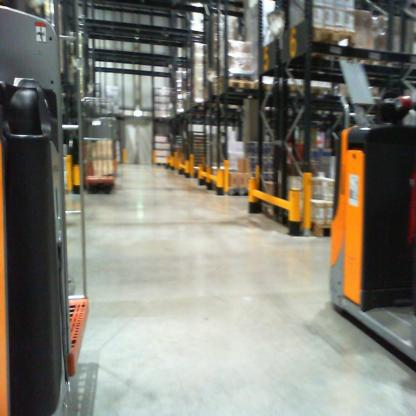pallet: (294, 20, 358, 56), (298, 213, 340, 241), (205, 77, 255, 98), (251, 77, 285, 100), (189, 97, 219, 114)
pallet_truck: (1, 1, 69, 414), (325, 81, 415, 370)
